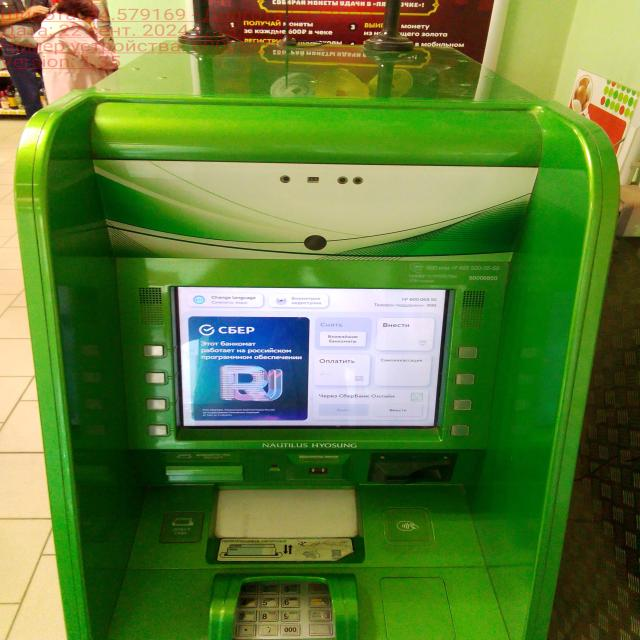bank: (12, 46, 606, 640)
